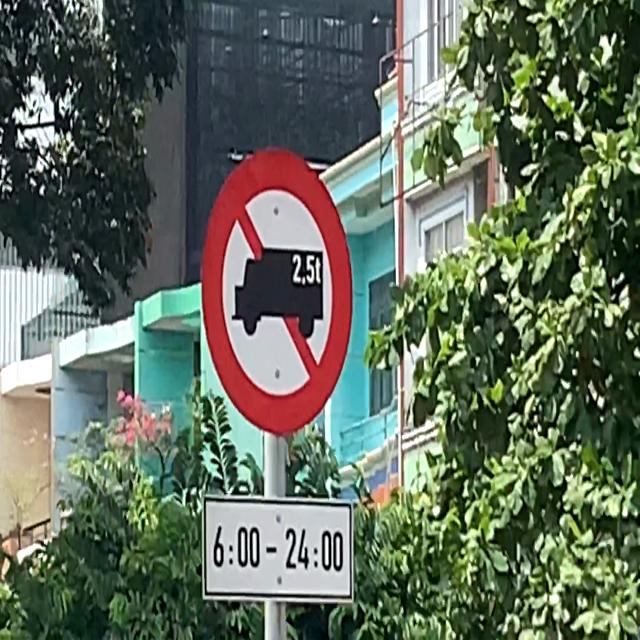P.106b: (200, 128, 363, 441)
